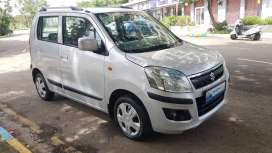nameplate: (205, 81, 226, 104)
